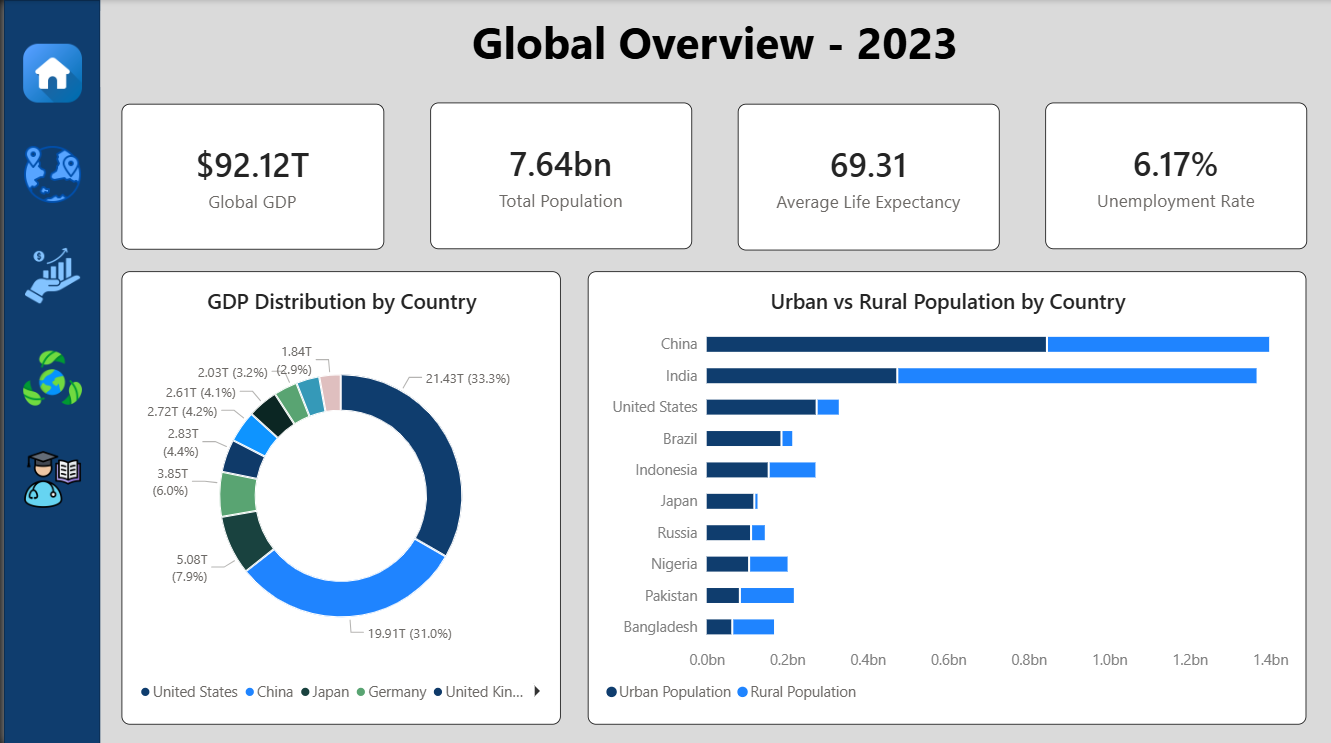

What the dashboard file says about the page in this screenshot:
{"tool":"powerbi","page":{"name":"Overview","canvas":[1280,720],"ordinal":0},"visuals":[{"type":"shape","box":[0,0,92.9,720.2],"z":0},{"type":"textbox","box":[92.9,10.9,1187.1,67.6],"z":1000},{"type":"card","fields":{"Values":["Measure.Global GDP"]},"box":[113.4,100.1,253.4,141.2],"z":2000},{"type":"card","fields":{"Values":["Measure.Total Population"]},"box":[410.8,98.8,252.5,141.2],"z":3000},{"type":"card","fields":{"Values":["Measure.Average Life Expectancy"]},"box":[707.9,100,252.5,141.2],"z":4000},{"type":"card","fields":{"Values":["Measure.Unemployment Rate"]},"box":[1005,98.8,252.5,141.2],"z":5000},{"type":"donutChart","title":"GDP Distribution by Country","fields":{"Category":["Dim_Geography.Country"],"Y":["Measure.Global GDP"]},"box":[113.8,261.2,423.8,437.5],"z":6000},{"type":"barChart","title":"Urban vs Rural Population by Country","fields":{"Category":["Dim_Country.Country"],"Y":["Measure.Urban Population","Measure.Rural Population"]},"box":[563.8,261.2,693.8,437.5],"z":7000},{"type":"image","box":[16.9,42.2,60.3,56.7],"z":7001,"group":"g1"},{"type":"image","box":[16.9,140.2,60.3,56.7],"z":7002,"group":"g1"},{"type":"image","box":[16.9,238.2,60.3,56.7],"z":7003,"group":"g1"},{"type":"image","box":[16.9,336.3,60.3,56.7],"z":7004,"group":"g1"},{"type":"image","box":[16.9,434.3,60.3,56.7],"z":7005,"group":"g1"},{"type":"group","id":"g1","title":"Group 1","box":[16.9,42.2,60.3,448.8],"z":7006}]}

Visuals, with their boxes in screenshot pixels (x1, y1, x2, y2), scaled from the page's 1280x720 canvas onto the 1331x743 screenshot:
shape: [x1=0, y1=0, x2=97, y2=742]
textbox: [x1=97, y1=11, x2=1330, y2=81]
card - Measure.Global GDP: [x1=118, y1=103, x2=381, y2=249]
card - Measure.Total Population: [x1=427, y1=102, x2=690, y2=248]
card - Measure.Average Life Expectancy: [x1=736, y1=103, x2=999, y2=249]
card - Measure.Unemployment Rate: [x1=1045, y1=102, x2=1308, y2=248]
"GDP Distribution by Country" donutChart: [x1=118, y1=270, x2=559, y2=721]
"Urban vs Rural Population by Country" barChart: [x1=586, y1=270, x2=1308, y2=721]
image: [x1=18, y1=44, x2=80, y2=102]
image: [x1=18, y1=145, x2=80, y2=203]
image: [x1=18, y1=246, x2=80, y2=304]
image: [x1=18, y1=347, x2=80, y2=406]
image: [x1=18, y1=448, x2=80, y2=507]
"Group 1" group: [x1=18, y1=44, x2=80, y2=507]
